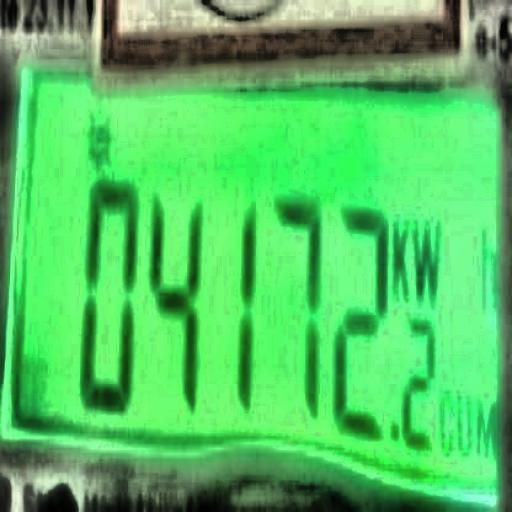SERIAL_REGION: (50, 170, 459, 460)
